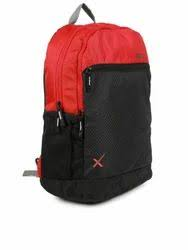backpack: (22, 2, 153, 204)
